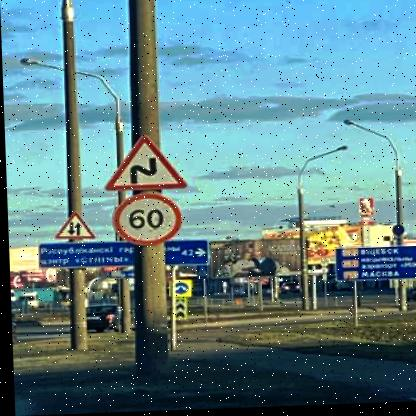Speed Limit -60-: (108, 192, 183, 253)
